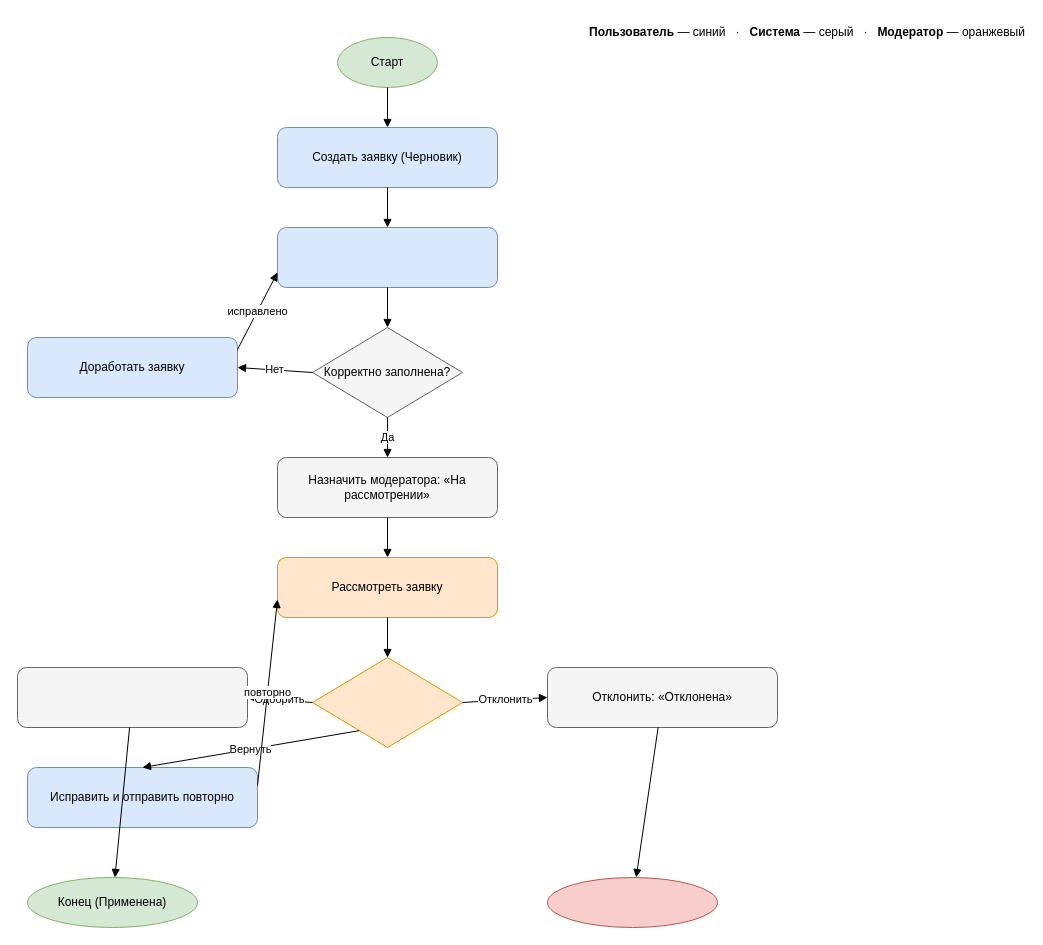
This 1043x945 diagram has some shape labels left out. Here are the shapes that lost their labels. From the top down, the centre of each, then its label:
At pixel 387 257: "Отправить заявку".
At pixel 132 697: "Одобрить → Применить: «Применена»".
At pixel 387 702: "Решение".
At pixel 632 902: "Конец (Отклонена)".
